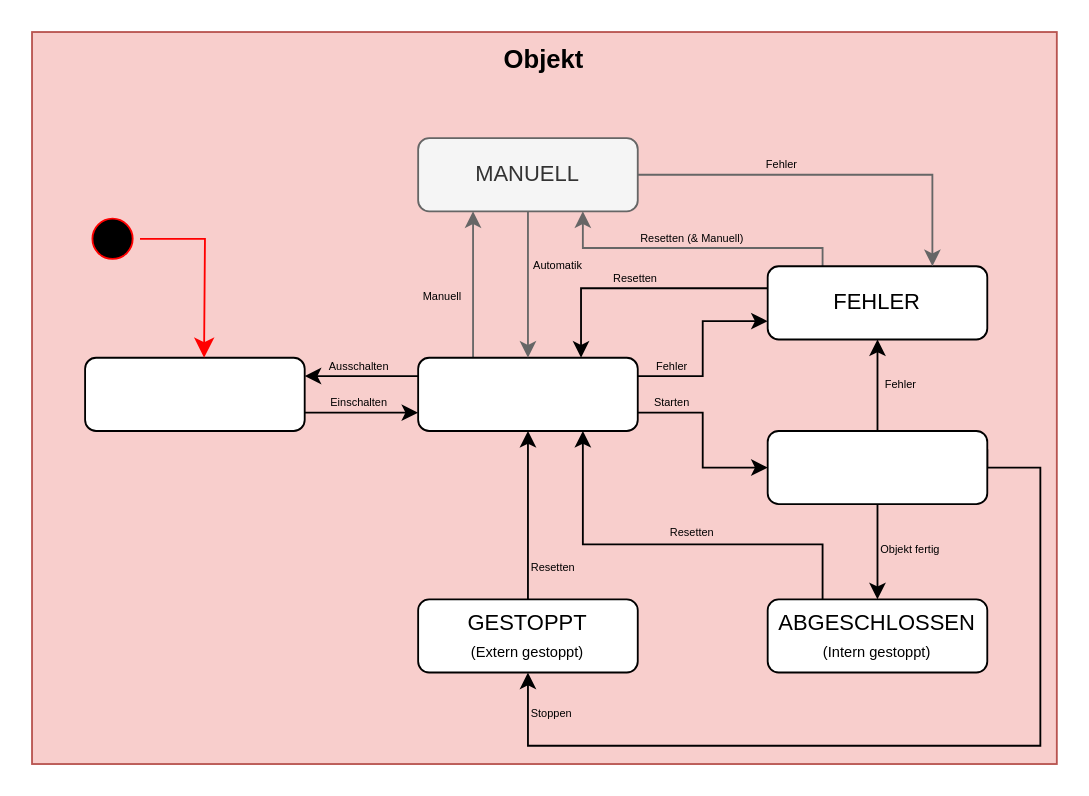
The diagram is 1089 pixels wide and 796 high, and some of its shapes have lost their labels. Here are the shapes that lost their labels. From the top down, the centre of each, then its label:
At [194,393]: "AUS".
At [527,393]: "BEREIT".
At [876,466]: "LAUFEND".
